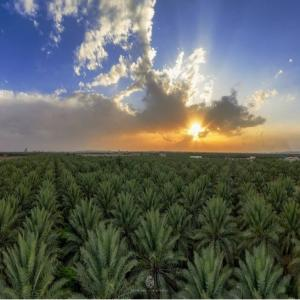palm tree: (0, 156, 300, 299)
